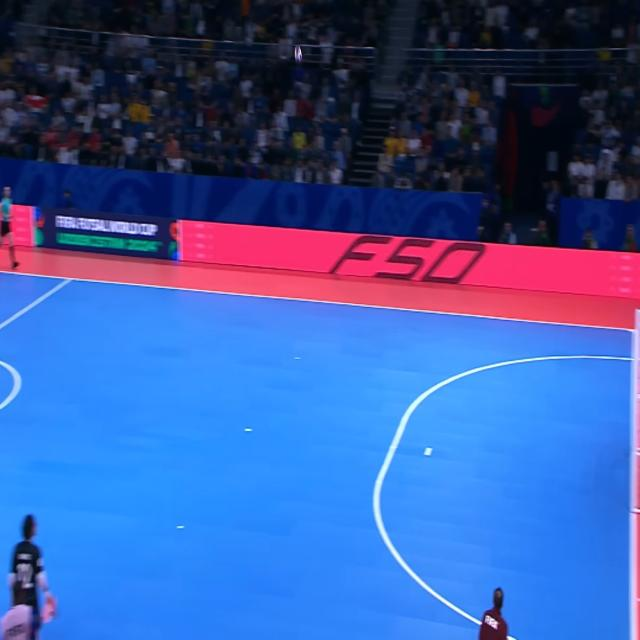Field: (0, 267, 638, 640)
Referee: (0, 174, 25, 274)
